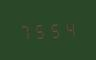five: (33, 20, 47, 40), (48, 19, 62, 39)
four: (63, 19, 77, 38)
seven: (18, 21, 32, 40)
